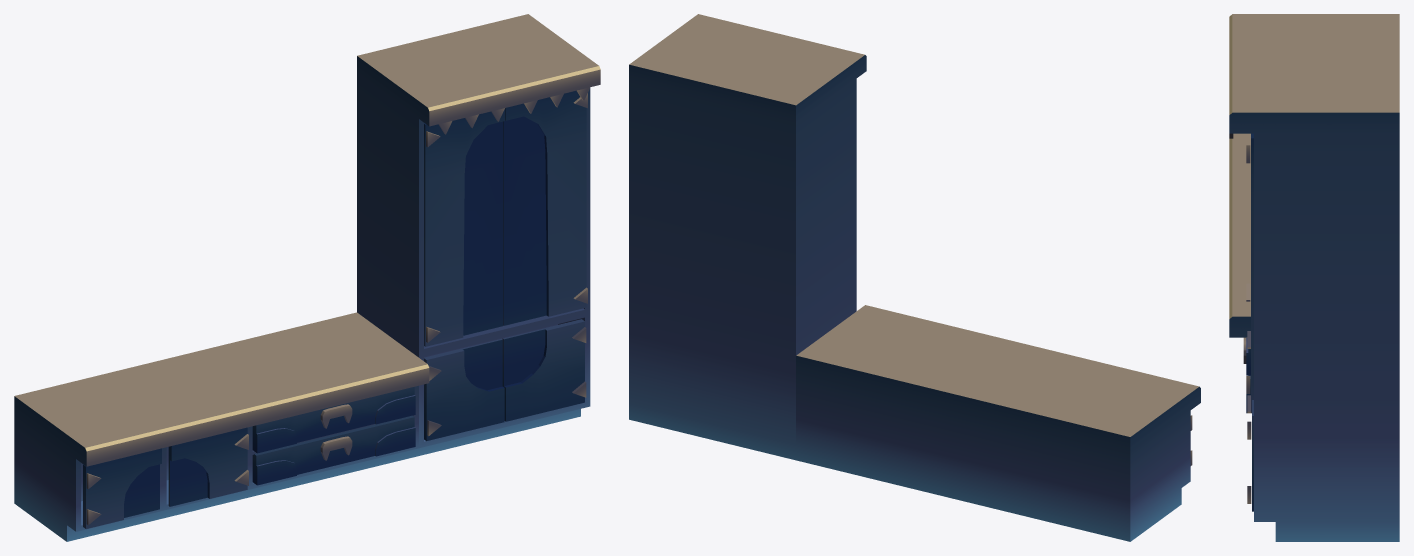
Rendered from dungeonkitchenparts.fbx.
3 renders of one model, left to right at view 1: azimuth 30°, elevation 25°; view 2: azimuth 150°, elevation 25°; view 3: azimuth 270°, elevation 25°, orthographic. The views are drawn at different scales.
Visible parts, largest first — view 1: fridge, counterB, fridge_doortopl, counterA, fridge_doortopr, fridge_doorbottoml, fridge_doorbottomr, counterA_drawerbottom, counterB_doorl, counterB_doorr, counterA_drawertop; view 2: fridge, counterB, counterA; view 3: fridge, counterA, counterB, fridge_doortopl, fridge_doorbottoml.
Part boxes in pixels (bbox=[...]): fridge: bbox=[357, 14, 600, 457]; counterB: bbox=[14, 354, 257, 541]; fridge_doortopl: bbox=[503, 90, 587, 325]; counterA: bbox=[186, 312, 429, 499]; fridge_doortopr: bbox=[424, 108, 505, 346]; fridge_doorbottoml: bbox=[502, 319, 586, 421]; fridge_doorbottomr: bbox=[424, 338, 504, 441]; counterA_drawerbottom: bbox=[252, 415, 415, 485]; counterB_doorl: bbox=[168, 427, 248, 506]; counterB_doorr: bbox=[83, 448, 161, 528]; counterA_drawertop: bbox=[252, 387, 415, 453]; fridge: bbox=[629, 14, 866, 460]; counterB: bbox=[963, 346, 1200, 541]; counterA: bbox=[796, 305, 1031, 500]; fridge: bbox=[1229, 14, 1399, 541]; counterA: bbox=[1229, 218, 1250, 337]; counterB: bbox=[1229, 133, 1250, 220]; fridge_doortopl: bbox=[1246, 133, 1253, 399]; fridge_doorbottoml: bbox=[1247, 400, 1253, 511].
Bounding box in the file's own units: 3 × 2.03 × 0.7312.
Materials: 1 (1 with a texture image).
